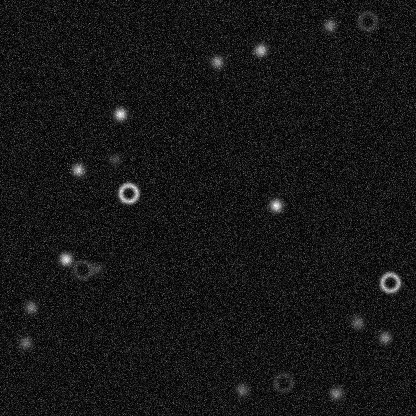Ring: (70, 257, 94, 281), (271, 370, 295, 394), (116, 181, 140, 205), (355, 8, 379, 32), (377, 270, 401, 294)
Spot: (88, 260, 104, 276), (267, 197, 283, 213), (252, 41, 268, 57), (327, 385, 343, 401), (70, 161, 86, 177), (22, 299, 38, 315), (321, 17, 337, 33), (17, 335, 33, 351), (106, 151, 122, 167), (112, 106, 128, 122), (349, 314, 365, 330), (57, 250, 73, 266), (376, 329, 392, 345), (209, 53, 225, 69), (233, 381, 249, 397)
